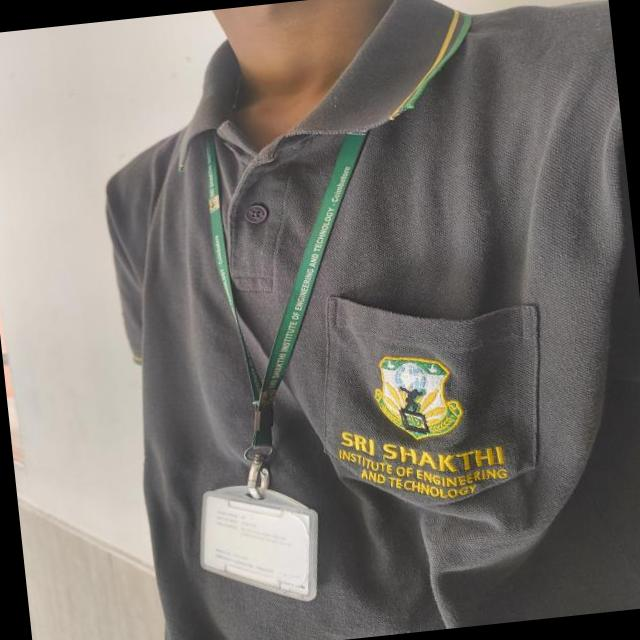id_card: (140, 119, 412, 614)
